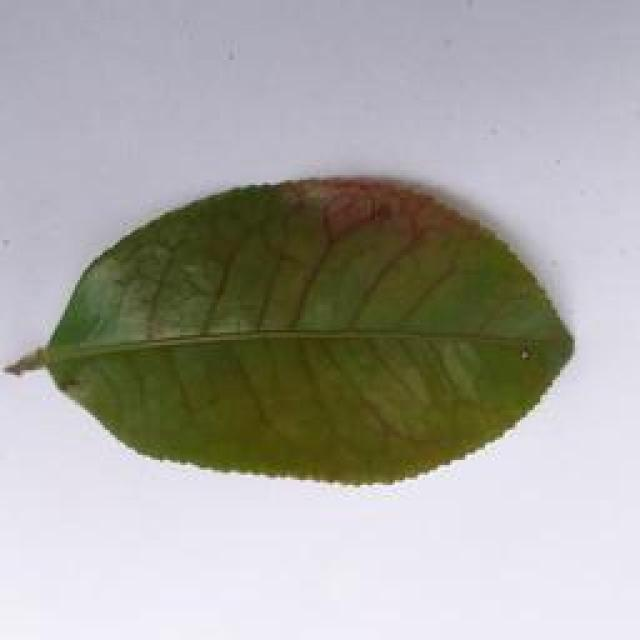Red Leaf Spot: (0, 177, 593, 483)
